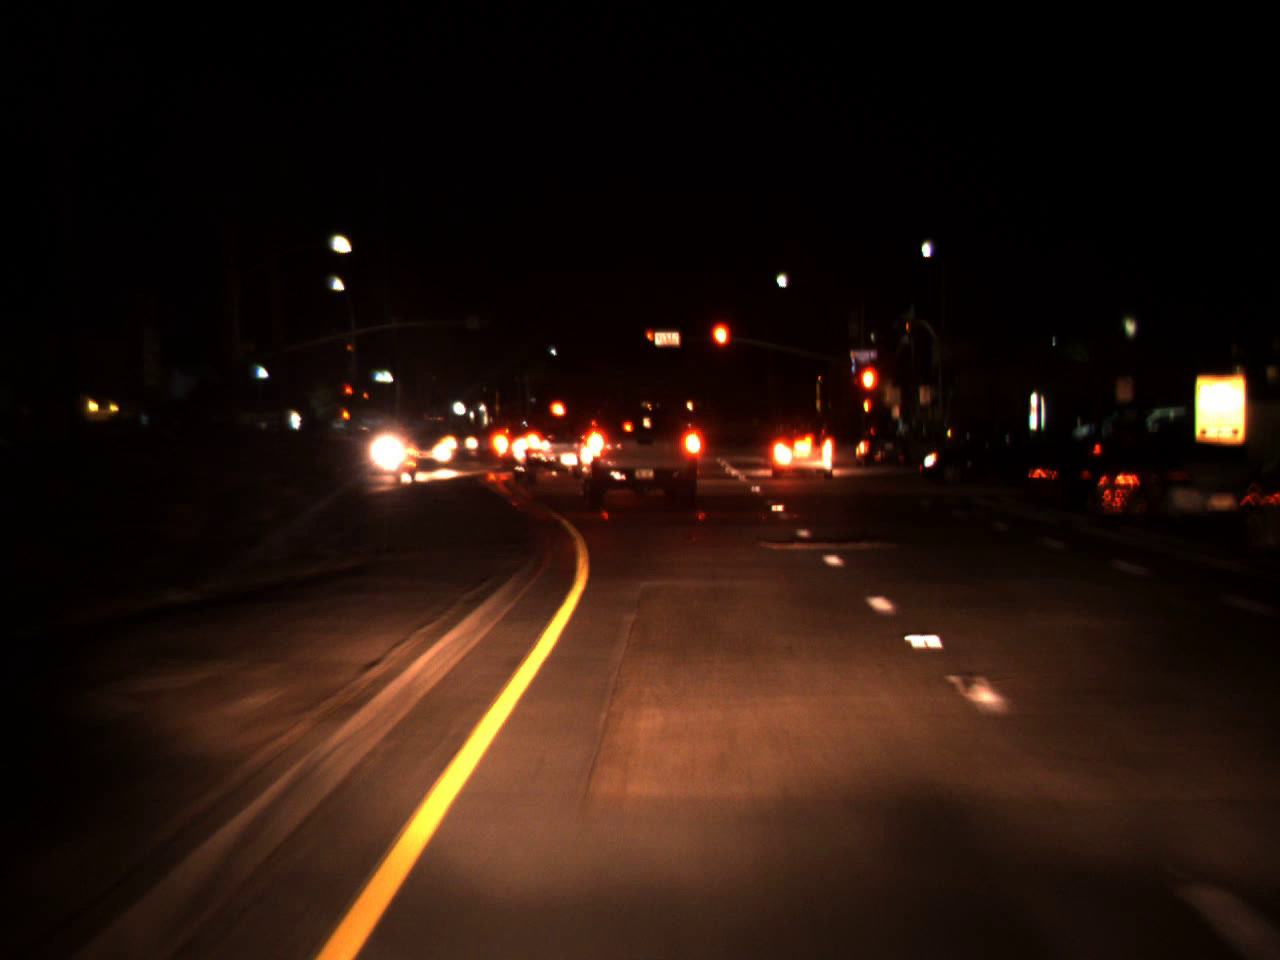stop: (857, 362, 881, 421), (709, 319, 733, 373), (645, 330, 655, 351), (344, 384, 353, 405)
